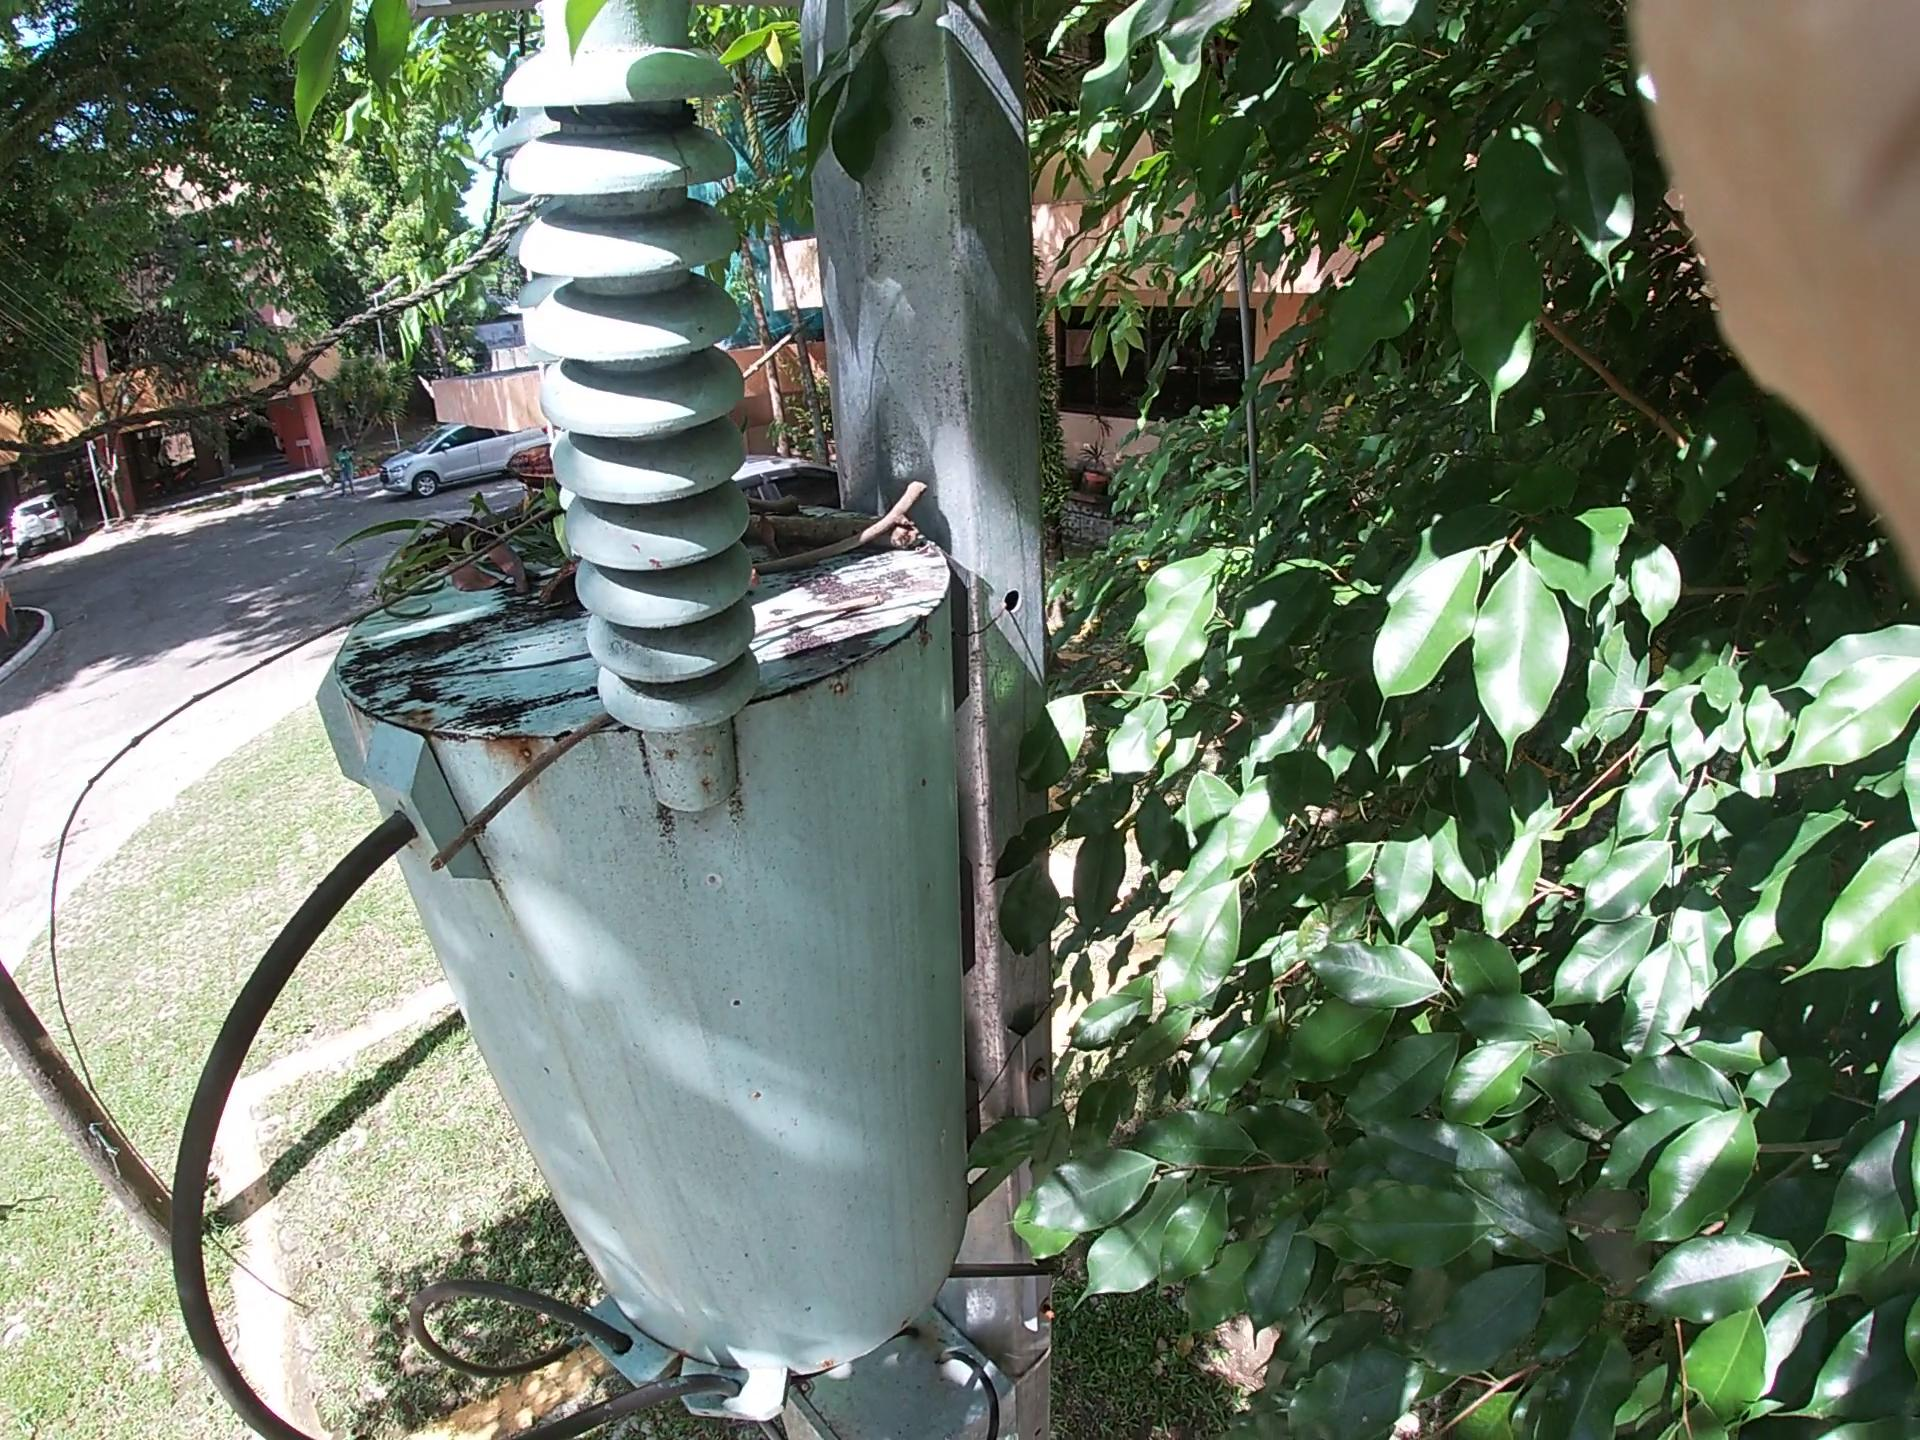branch with leaves: (277, 313, 850, 697)
tree branch: (33, 312, 841, 843), (432, 554, 971, 883), (670, 457, 996, 582), (730, 452, 813, 531)
